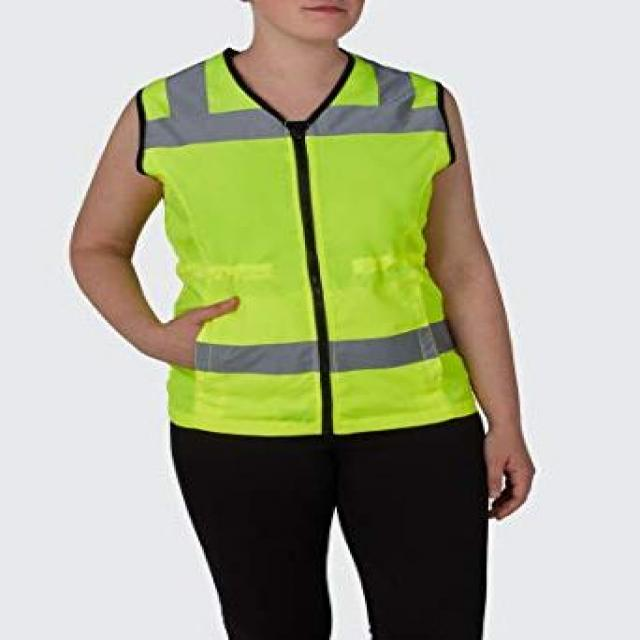Reflective-Jacket: (127, 43, 485, 450)
